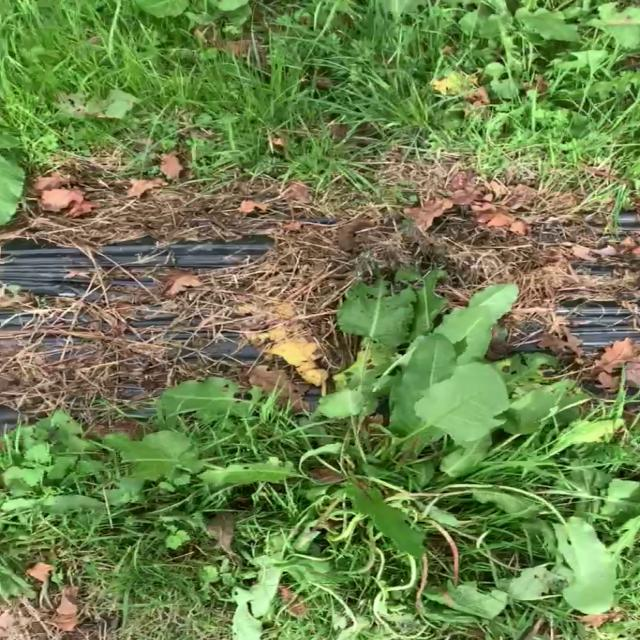organic waste: (140, 274, 637, 640), (374, 0, 640, 141), (92, 0, 274, 41)
